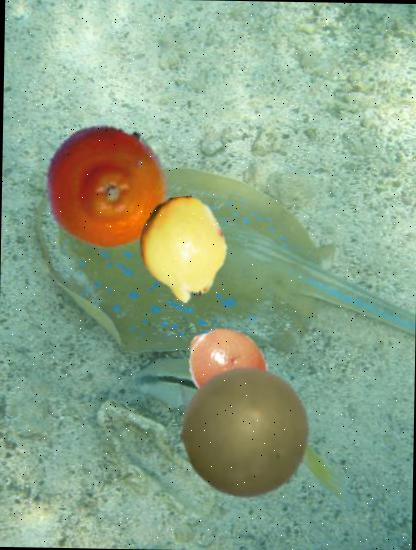Grape: (178, 364, 314, 500)
Quince: (128, 196, 236, 303)
Tangelo: (41, 120, 172, 250), (182, 323, 269, 410)
